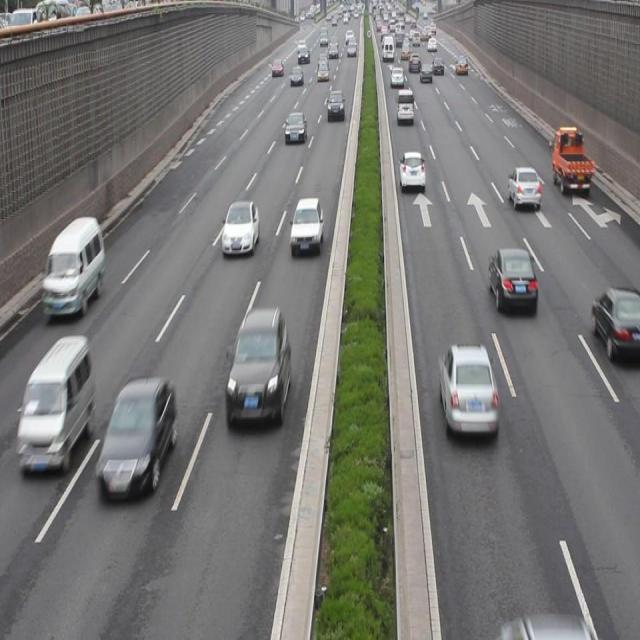bus: (551, 126, 592, 195)
car: (100, 378, 175, 499), (227, 308, 289, 430), (438, 341, 497, 440), (589, 285, 640, 357), (485, 247, 536, 311), (221, 201, 259, 256), (290, 197, 322, 252), (506, 166, 538, 207), (397, 151, 424, 192), (283, 108, 307, 144)
truck: (23, 337, 94, 478), (44, 218, 105, 315)
